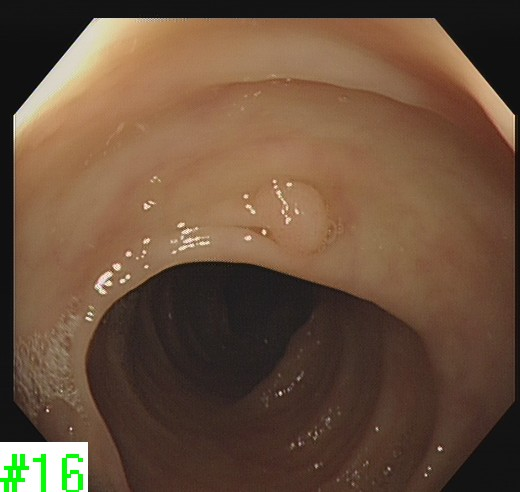adenoma: (248, 176, 330, 257)
